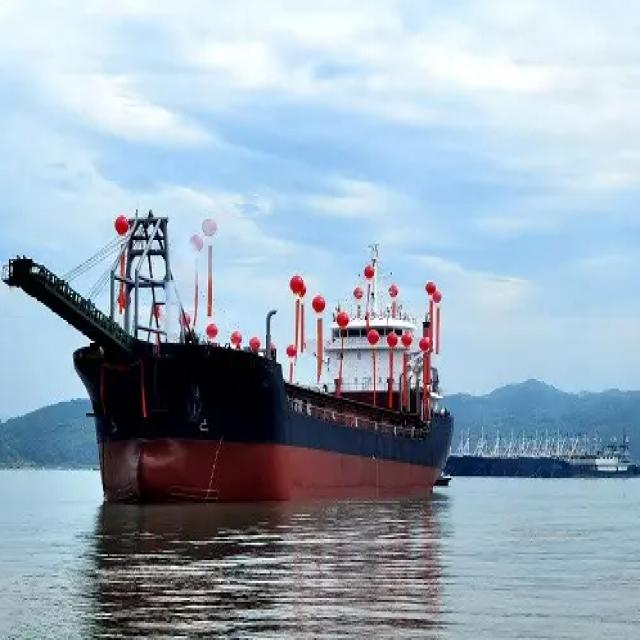cargoship: (17, 174, 468, 520)
